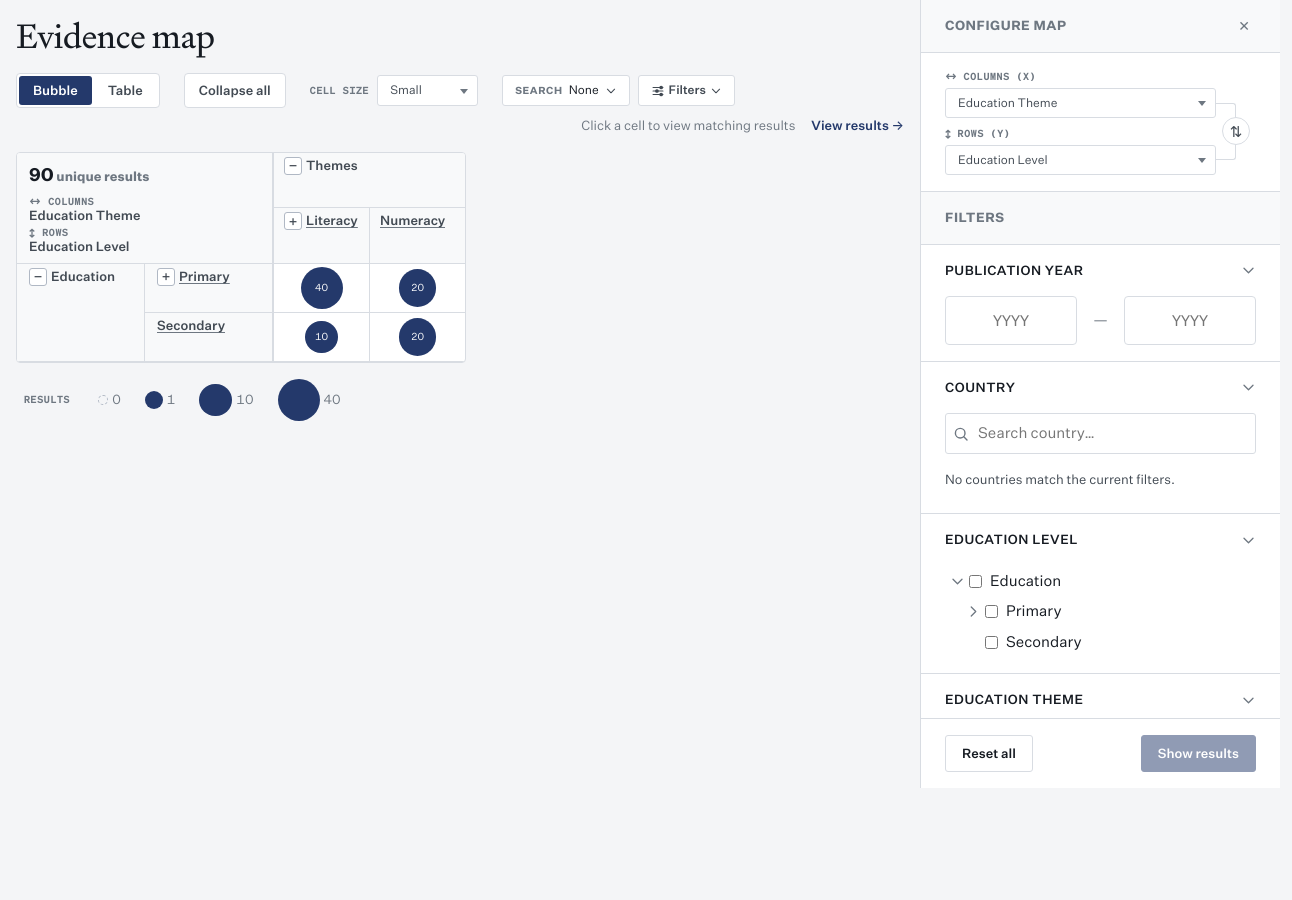
Scenario: VisualisePage nested-axis state › guards an oversized expansion and Collapse all recovers locally
Click the button "Table" at (125, 91), box [94, 76, 157, 105]
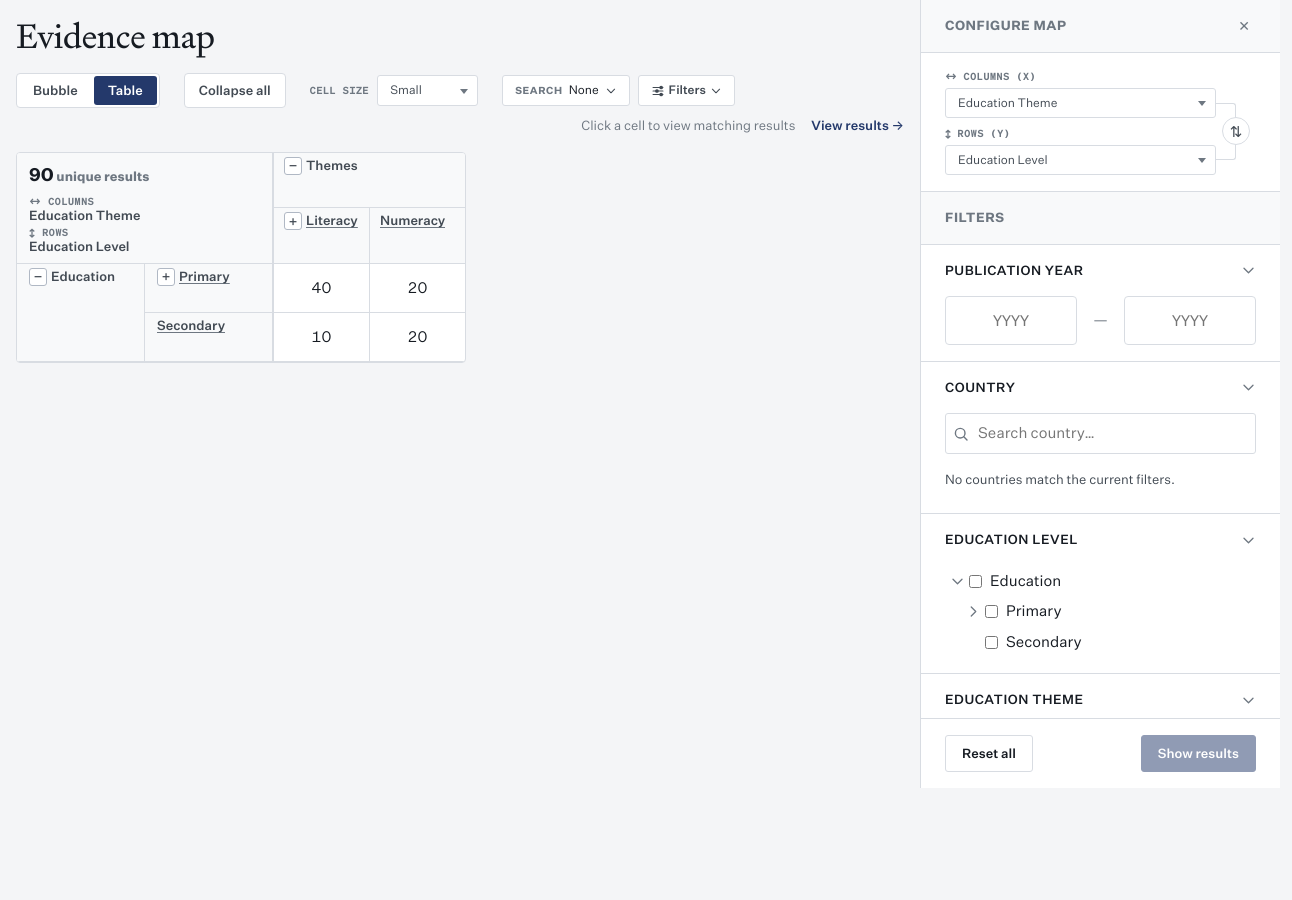
Click the button named "Expand Primary" at (166, 277), box [157, 268, 175, 286]
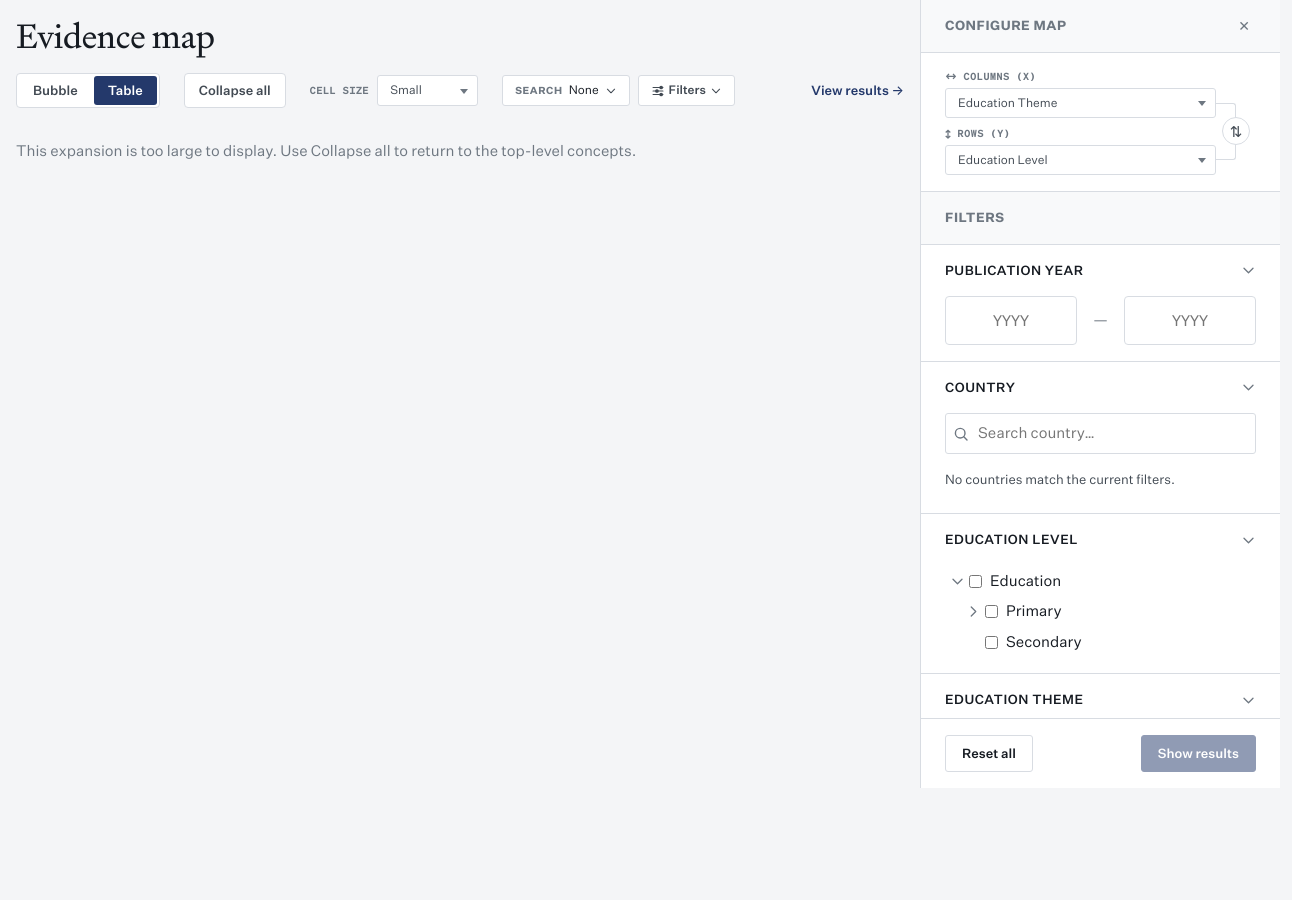
Now the table is gone
Now the message shows "This expansion is too large to display", box [16, 142, 636, 159]
Now the message shows "Collapse all", box [16, 142, 636, 159]
Click the button "Bubble" at (55, 91), box [19, 76, 92, 105]
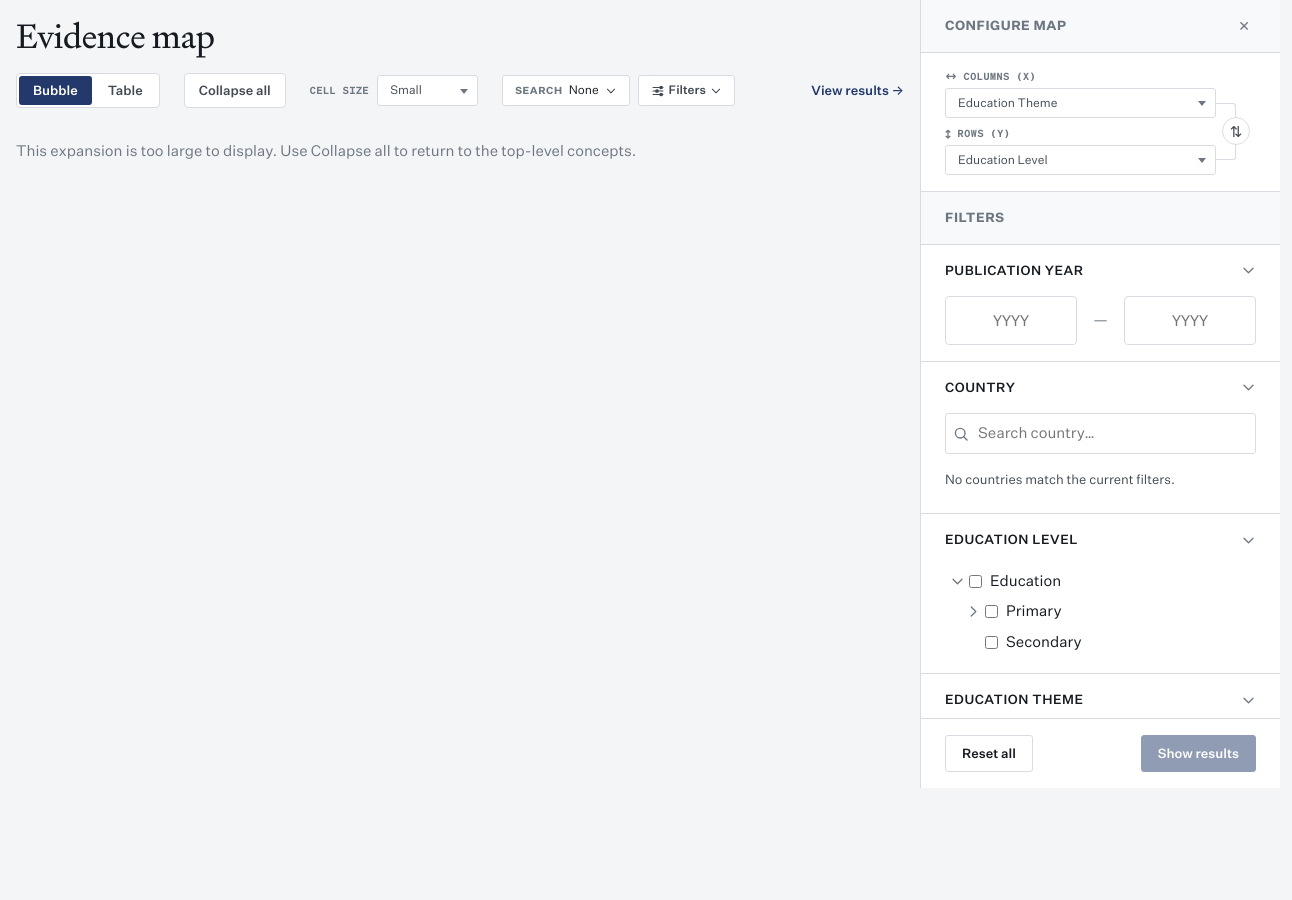
Now the message shows "This expansion is too large to display", box [16, 142, 636, 159]
Click the button "Collapse all" at (235, 91), box [184, 73, 286, 108]
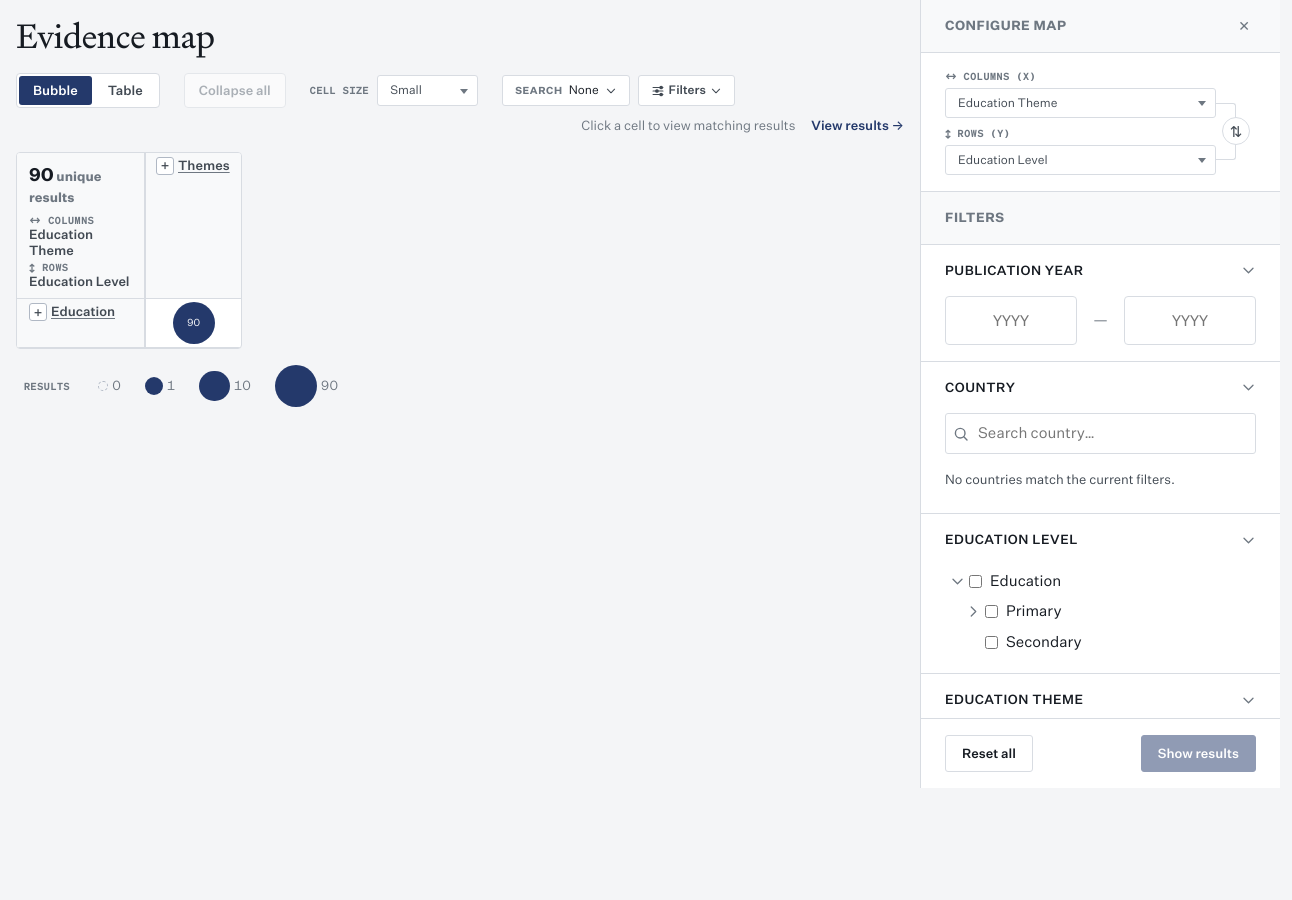
Now the table is shown, box [17, 153, 241, 348]
